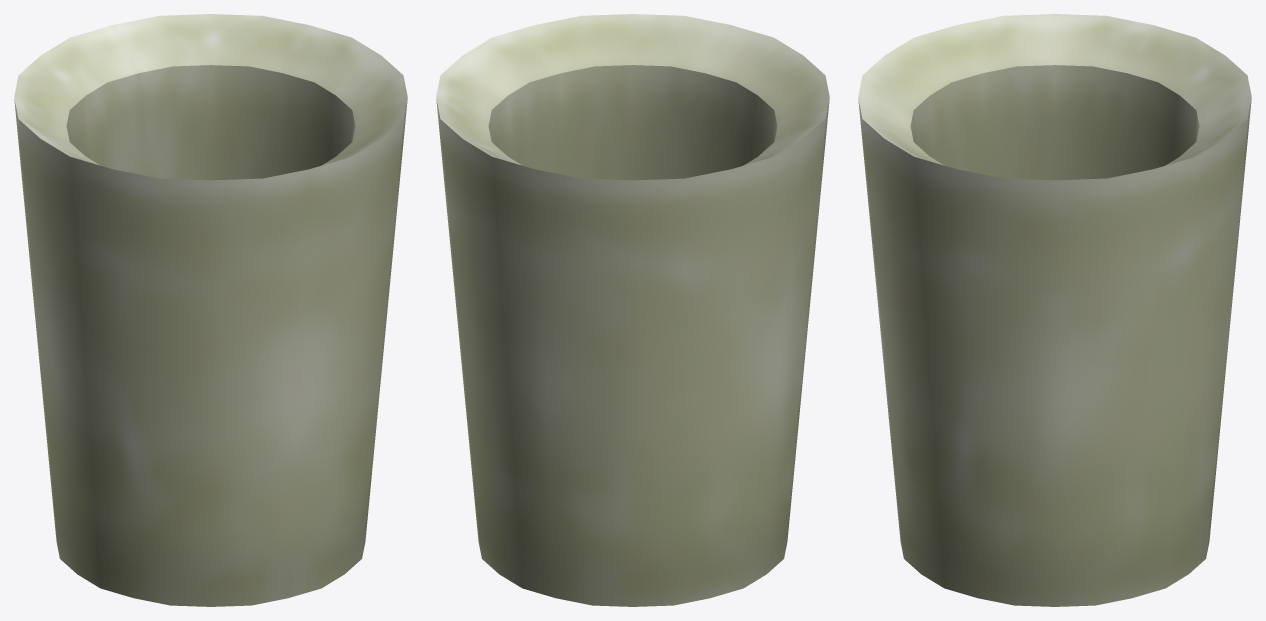
The model's file is Dustbox_HD.fbx.
The picture shows the model from 3 angles, left to right: view 1: azimuth 30°, elevation 25°; view 2: azimuth 150°, elevation 25°; view 3: azimuth 270°, elevation 25°; orthographic projection.
Visible parts, largest first — view 1: Dustbox; view 2: Dustbox; view 3: Dustbox.
Boxes of the visible parts, <box> form: Dustbox: <box>14,14,407,606</box>; Dustbox: <box>436,14,829,606</box>; Dustbox: <box>858,14,1251,606</box>.
Size of the model in its own units: 0.2592 by 0.323 by 0.2592.
